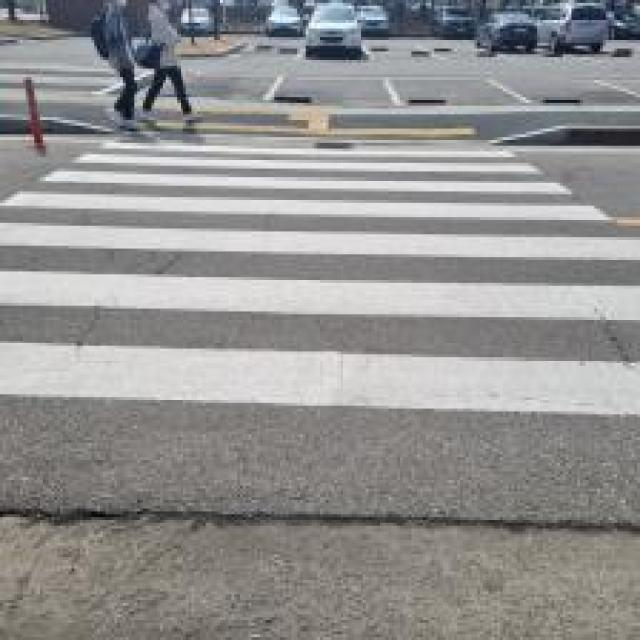walk-crossing: (51, 138, 597, 472)
